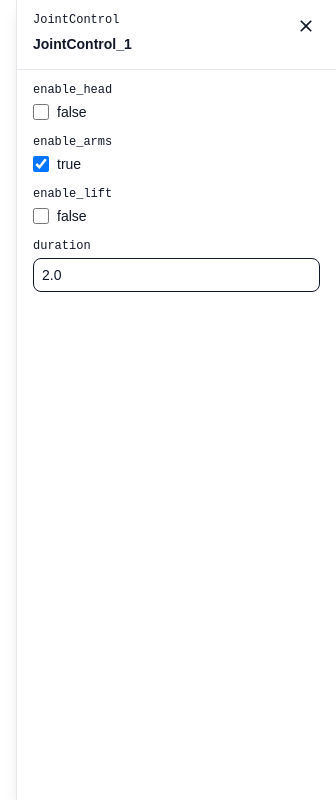
Test: restores the pre-edit node name when Escape is pressed
Step 1. Replace the text in the field showing "JointControl_1" with "TemporaryName" → {"x": 158, "y": 44}, box [33,32,284,57]
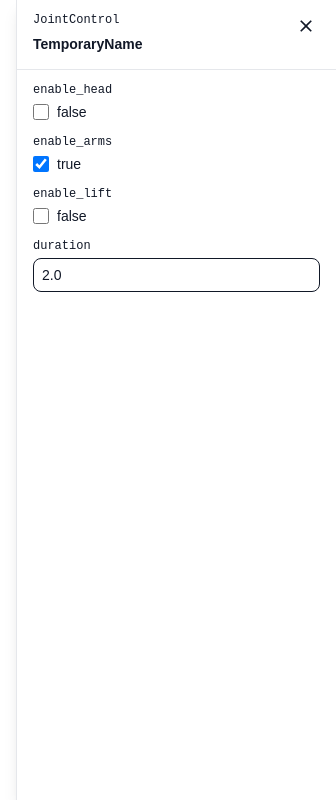
Step 2. Press Escape in the field showing "JointControl_1", box [33,32,284,57]
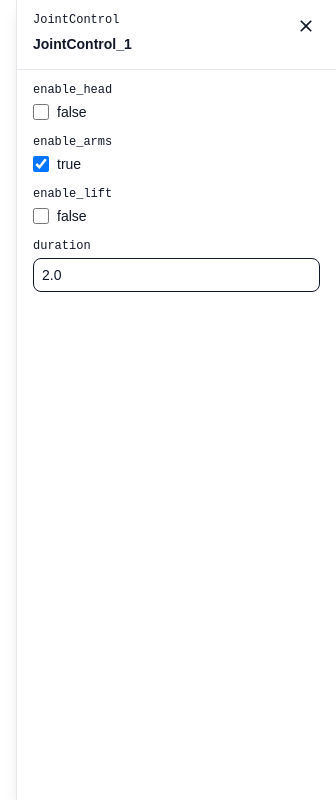
Result: the field showing "JointControl_1" holds "JointControl_1" at [33,32,284,57]
